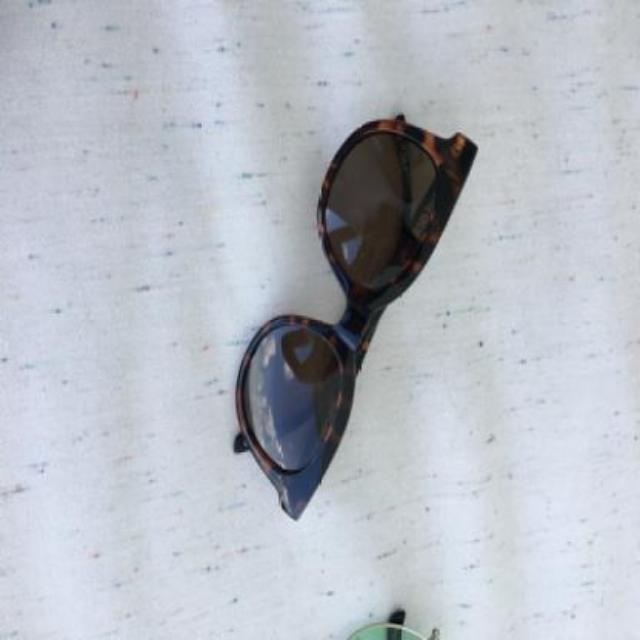sunglasses: (231, 112, 477, 518)
